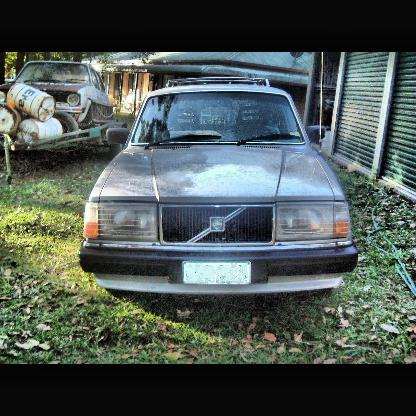Volvo 240 Sedan 1993: (79, 78, 359, 306)
